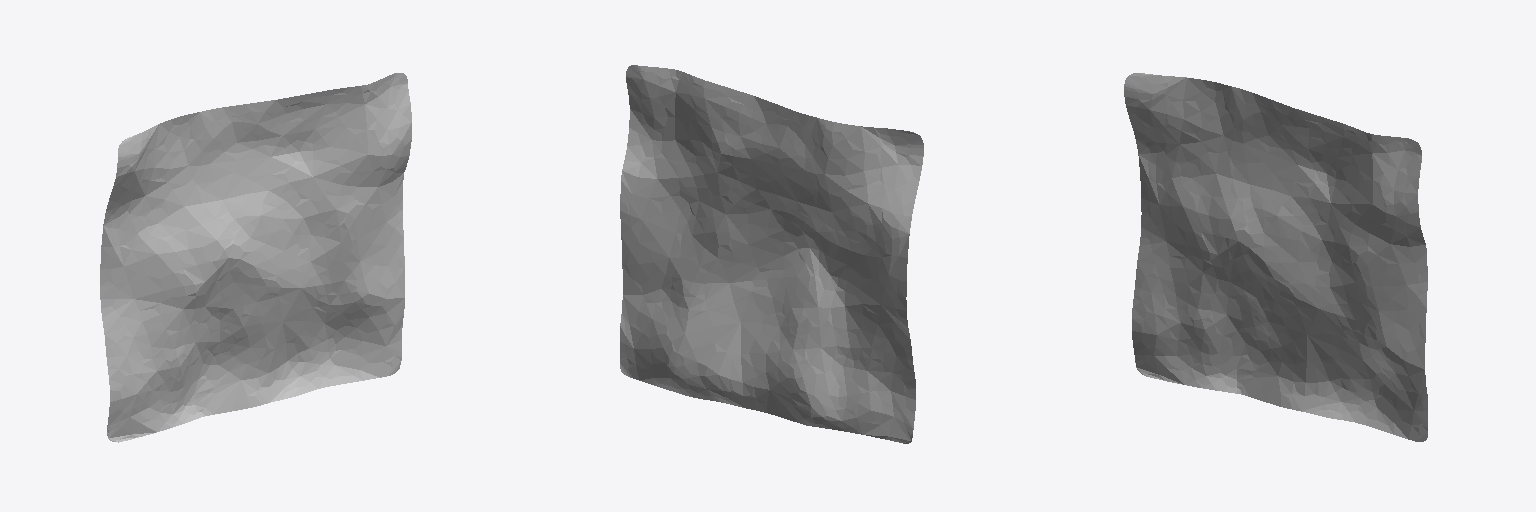
Rendered from plane_smooth.obj.
3 renders of one model, left to right at view 1: azimuth 30°, elevation 25°; view 2: azimuth 150°, elevation 25°; view 3: azimuth 330°, elevation 25°, orthographic.
Visible parts, largest first — view 1: Mesh; view 2: Mesh; view 3: Mesh.
Part boxes in pixels (x1,y1,x2,y2): Mesh: (100,73,411,442); Mesh: (620,65,923,443); Mesh: (1124,73,1427,441).
Size of the model in its own units: 2 by 2 by 0.2403.